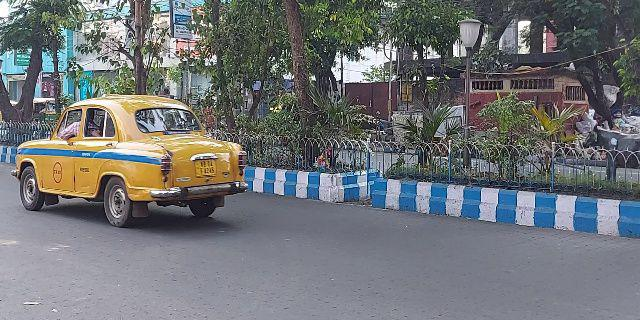Car: (10, 92, 249, 230)
